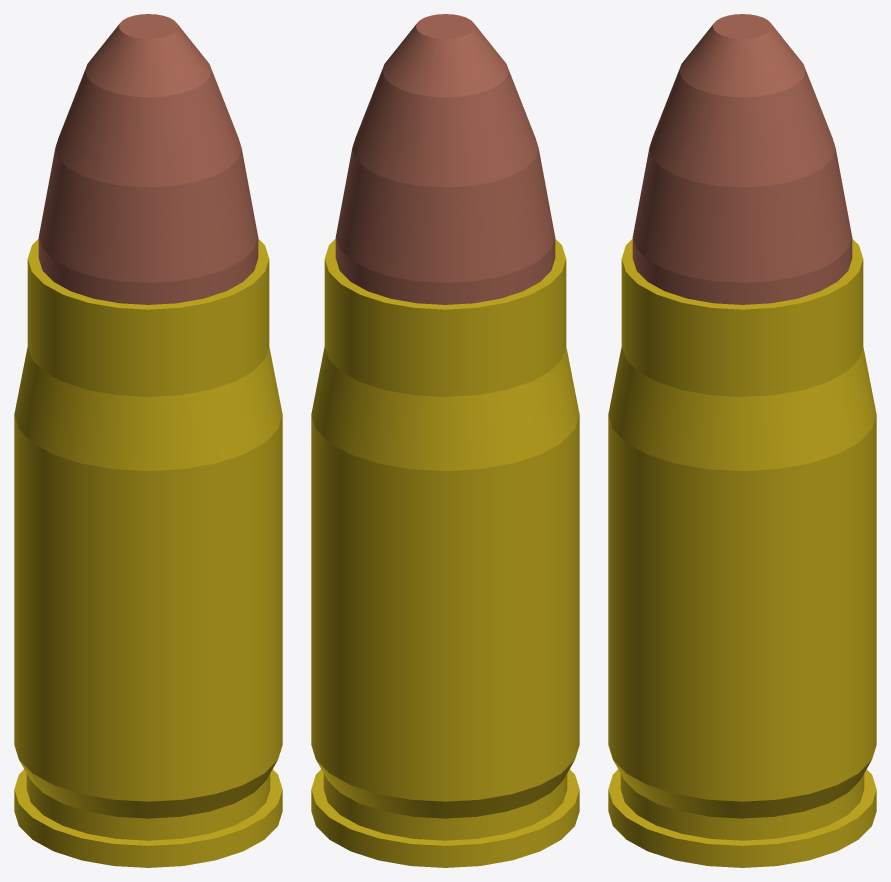
File: ammo_sniper.obj
The picture shows the model from 3 angles, left to right: view 1: azimuth 30°, elevation 25°; view 2: azimuth 150°, elevation 25°; view 3: azimuth 270°, elevation 25°; orthographic projection.
Visible parts, largest first — view 1: Mesh1 Group2 Group1 Model, Mesh2 Group3 Group1 Model; view 2: Mesh1 Group2 Group1 Model, Mesh2 Group3 Group1 Model; view 3: Mesh1 Group2 Group1 Model, Mesh2 Group3 Group1 Model.
Boxes of the visible parts, left/top/right/bottom form: Mesh1 Group2 Group1 Model: left=14, top=239, right=282, bottom=867; Mesh2 Group3 Group1 Model: left=38, top=14, right=258, bottom=304; Mesh1 Group2 Group1 Model: left=311, top=239, right=579, bottom=867; Mesh2 Group3 Group1 Model: left=335, top=14, right=555, bottom=304; Mesh1 Group2 Group1 Model: left=608, top=239, right=876, bottom=867; Mesh2 Group3 Group1 Model: left=632, top=14, right=852, bottom=304.
Size of the model in its own units: 0.0066 by 0.0213 by 0.0066.
